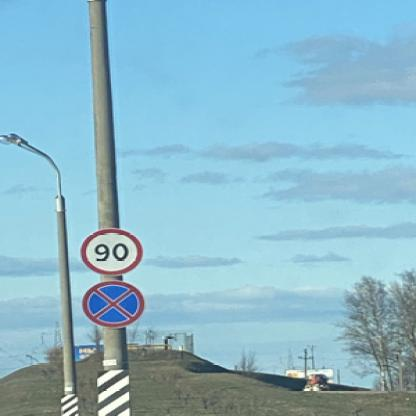speedlimit: (78, 228, 142, 274)
